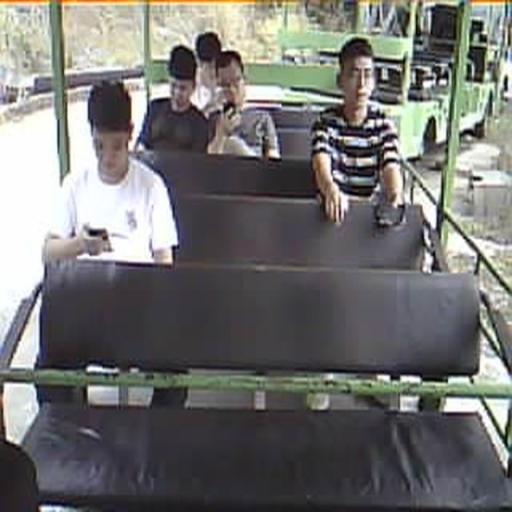persona: (44, 78, 180, 268), (308, 36, 406, 224), (206, 50, 282, 162), (134, 44, 210, 153), (195, 33, 225, 117)
